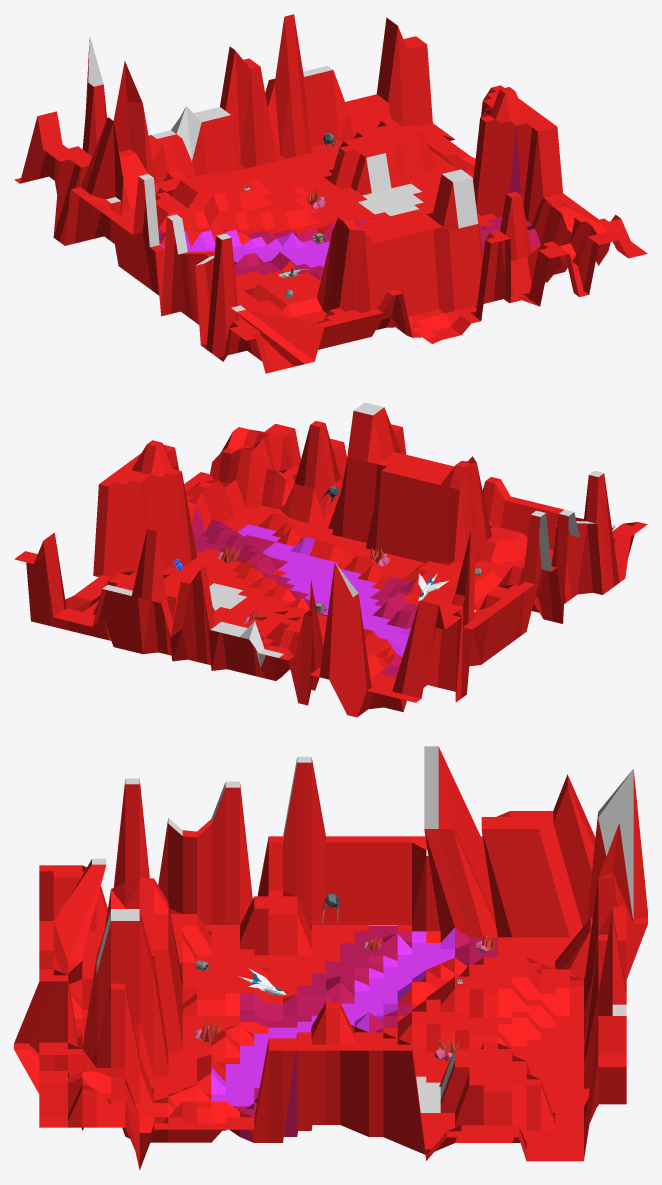
Rendered from AnforaLandscape.glb.
3 renders of one model, top to bottom at view 1: azimuth 30°, elevation 25°; view 2: azimuth 150°, elevation 25°; view 3: azimuth 270°, elevation 25°, orthographic. The views are drawn at different scales.
Visible parts, largest first — view 1: Plane.001; view 2: Plane.001; view 3: Plane.001.
Boxes of the visible parts, x1,y1,x2,y2 form: Plane.001: (14,14,647,373); Plane.001: (14,402,647,717); Plane.001: (14,746,647,1169).
Bounding box in the file's own units: 32.26 × 12.64 × 34.82.
25 materials, 1 textured.
